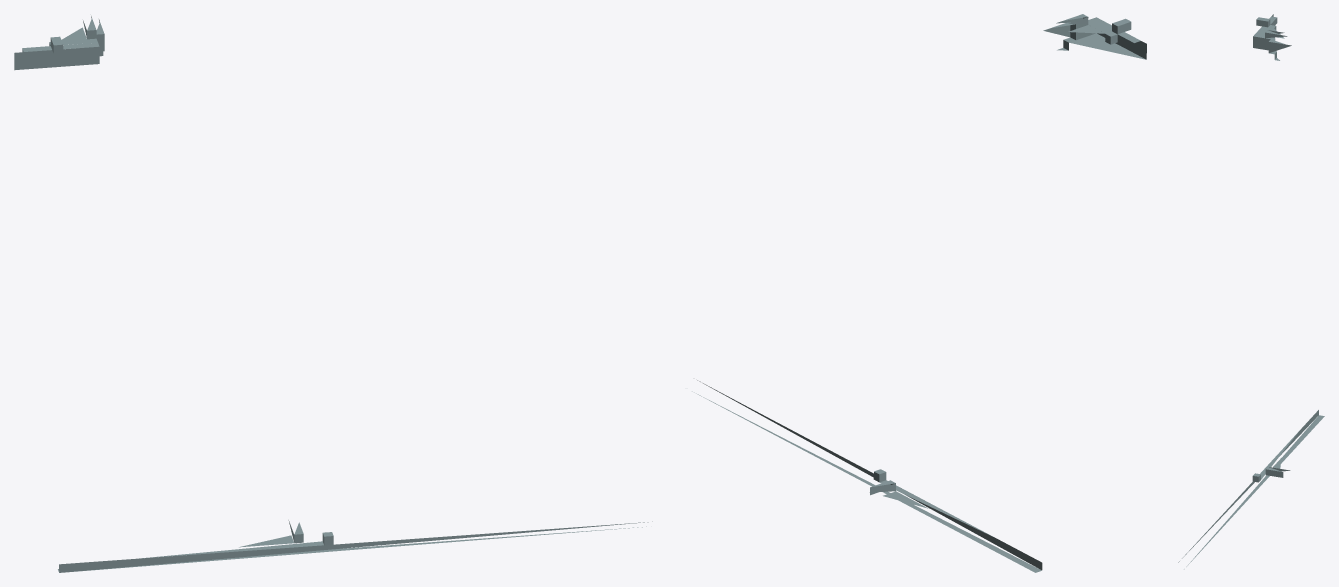
3 renders of one model, left to right at view 1: azimuth 30°, elevation 25°; view 2: azimuth 150°, elevation 25°; view 3: azimuth 270°, elevation 25°, orthographic. The views are drawn at different scales.
Visible parts, largest first — view 1: measured-industrial; view 2: measured-industrial; view 3: measured-industrial.
Part boxes in pixels (box(x1,y1,x2,y2)): measured-industrial: box(14, 16, 652, 572); measured-industrial: box(692, 14, 1146, 572); measured-industrial: box(1178, 14, 1324, 569).
Size of the model in its own units: 68.69 by 66 by 23.49.
